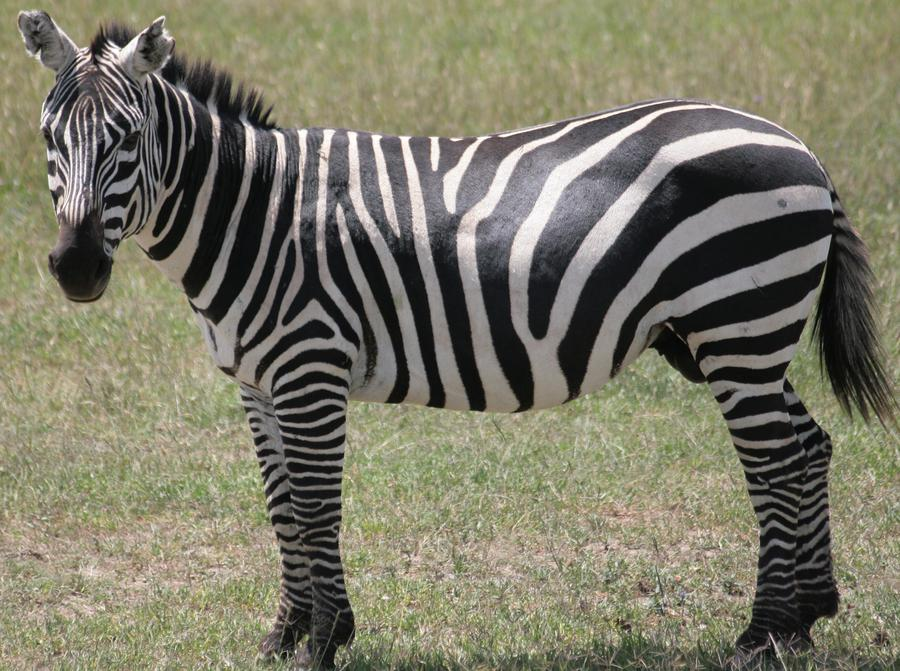zebra_plains: (243, 112, 827, 345)
